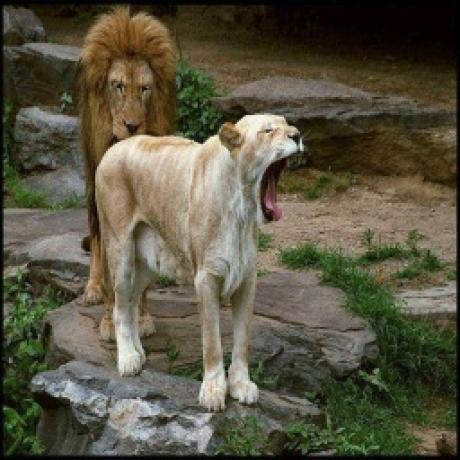Lion: (94, 108, 306, 411), (72, 1, 181, 252)
